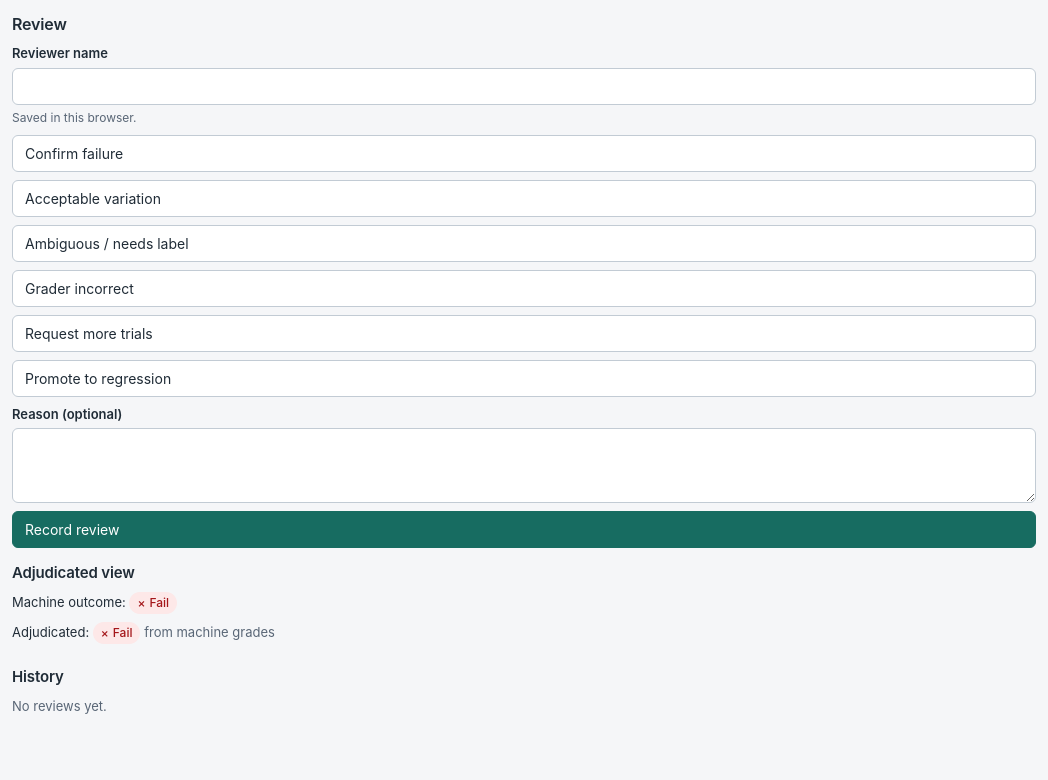
Test: ReviewPanel › blocks a grader-incorrect review without a reason and sends nothing
Type "Ana" into the field labelled "Reviewer name". click: (524, 86)
box: [12,68,1036,104]
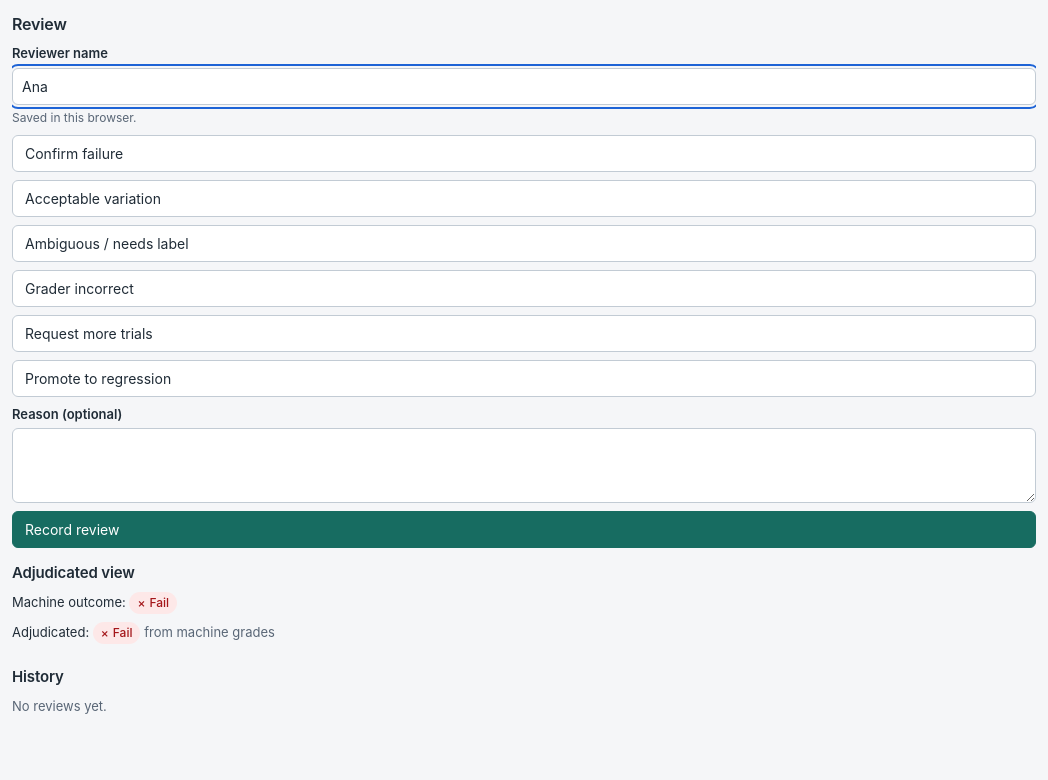
Click the radio button labelled "Grader incorrect". click: (79, 288)
box: [12,270,1036,306]
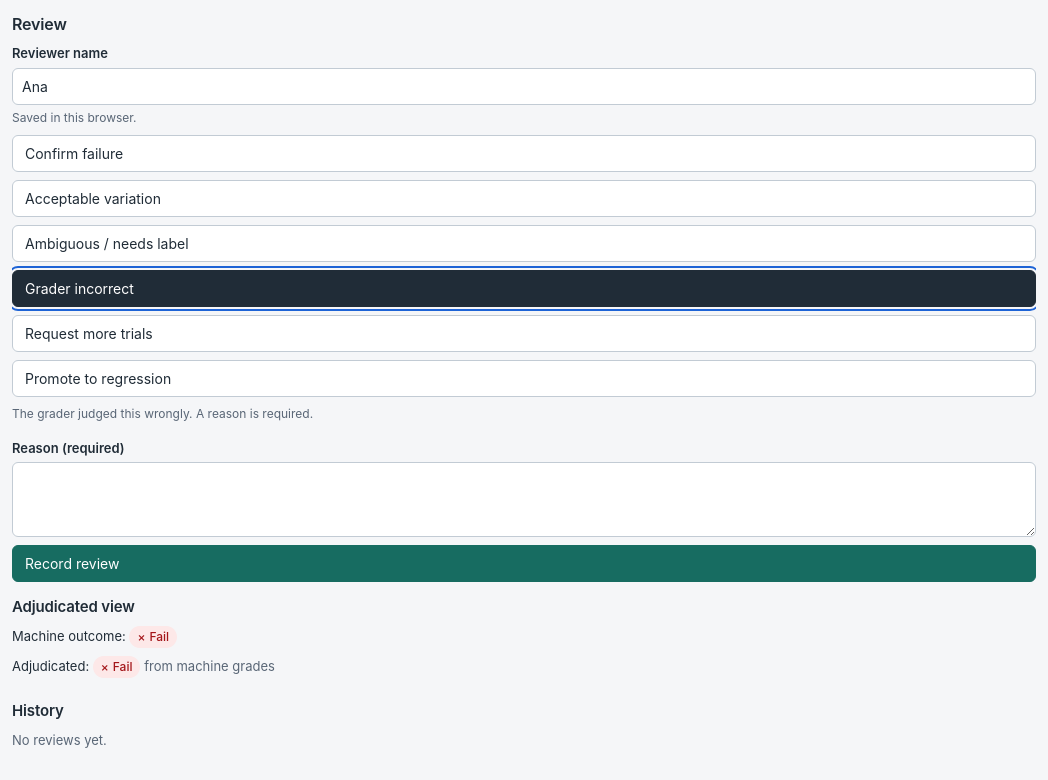
Click the button "Record review". click: (72, 563)
box: [12,544,1036,582]
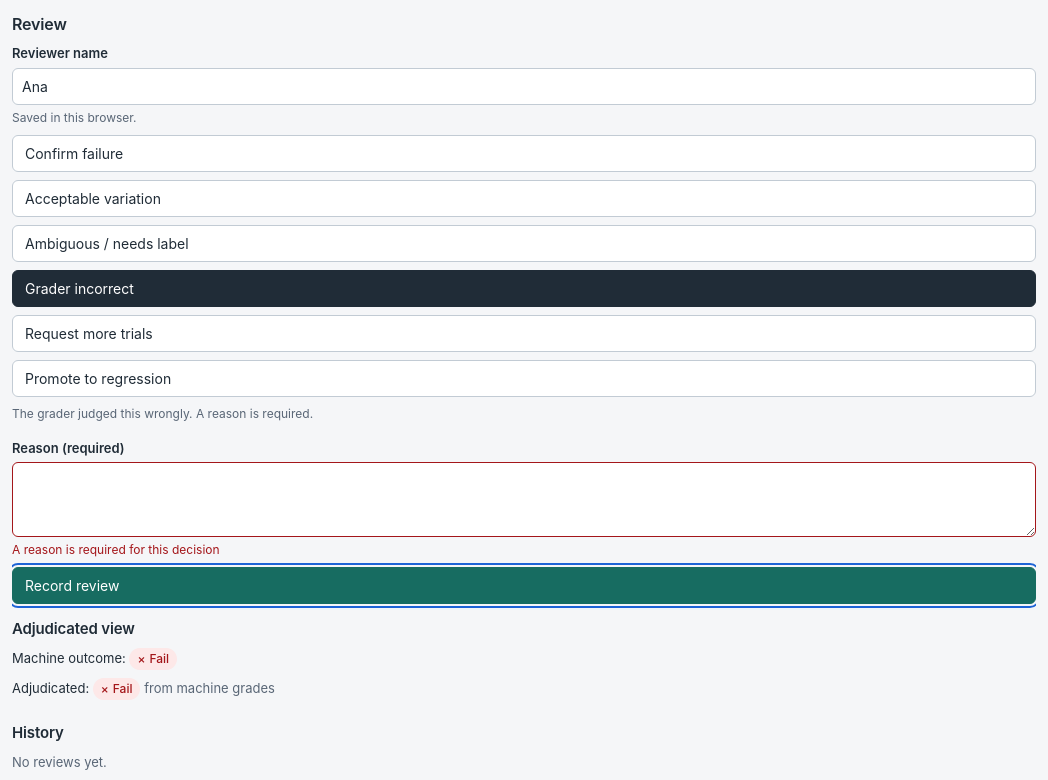
expect the text "A reason is required for this decision" is shown: met, box [12,542,220,556]
